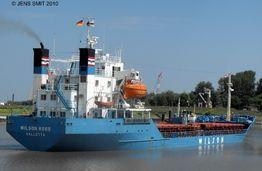Cargoship: (4, 15, 255, 152)
